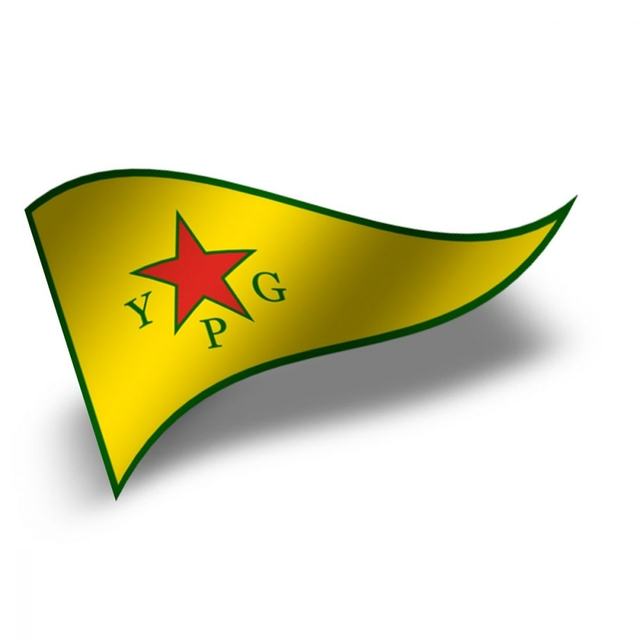YPG: (116, 207, 294, 354)
